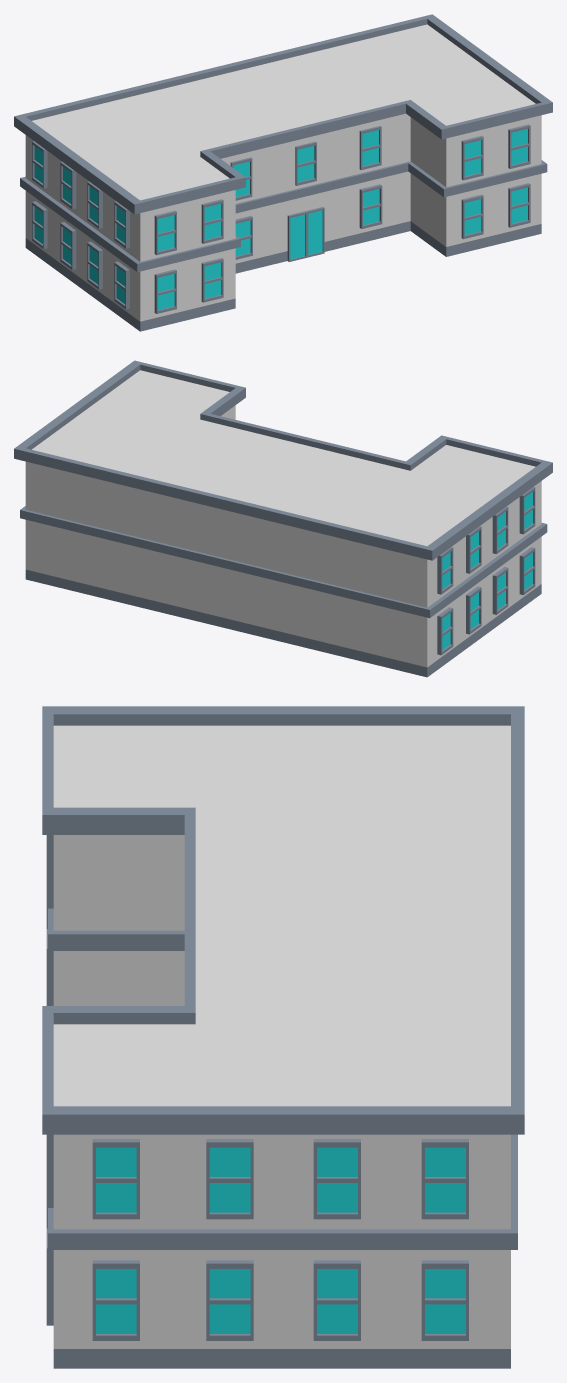
File: Building4_1.fbx
The picture shows the model from 3 angles, top to bottom: view 1: azimuth 30°, elevation 25°; view 2: azimuth 150°, elevation 25°; view 3: azimuth 270°, elevation 25°; orthographic projection. The views are drawn at different scales.
Visible parts, largest first — view 1: Building4_1; view 2: Building4_1; view 3: Building4_1.
Part boxes in pixels (x1=…): Building4_1: x1=14, y1=14, x2=552, y2=331; Building4_1: x1=14, y1=360, x2=552, y2=677; Building4_1: x1=42, y1=706, x2=524, y2=1368.
Size of the model in its own units: 4523 by 1356 by 2257.
